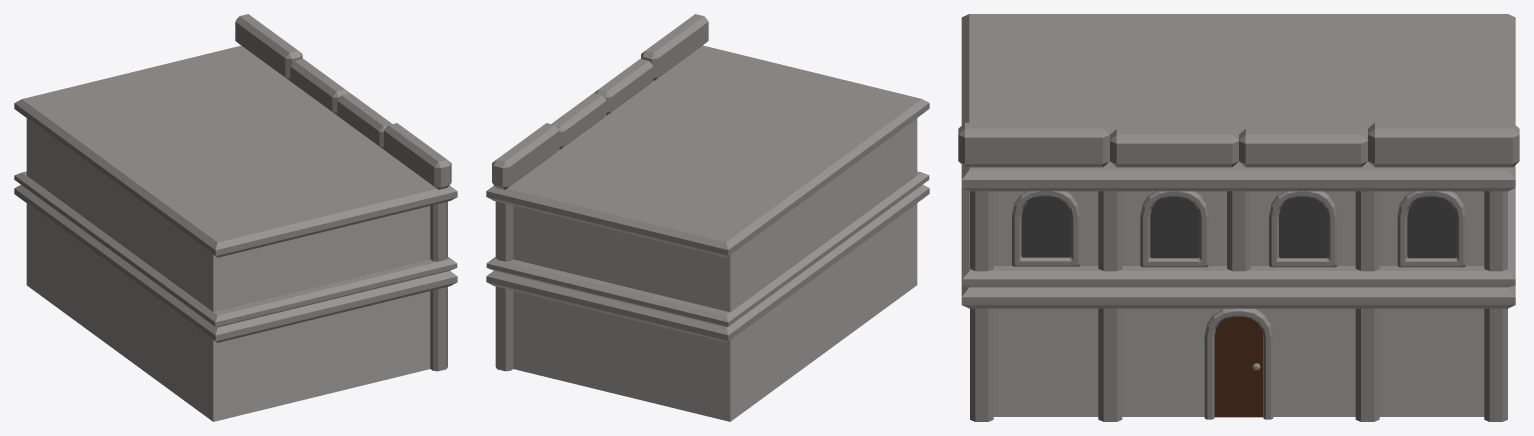
File: Edi_Chico.fbx
The picture shows the model from 3 angles, left to right: view 1: azimuth 30°, elevation 25°; view 2: azimuth 150°, elevation 25°; view 3: azimuth 270°, elevation 25°; orthographic projection. The views are drawn at different scales.
Visible parts, largest first — view 1: Cube.051, Cube.058, Cube.060; view 2: Cube.051, Cube.058, Cube.060; view 3: Cube.051, Cube.058, Cube.060, Cube.066, Cube.059.
Part boxes in pixels (box(x1,y1,x2,y2)): Cube.051: box(14, 45, 457, 327); Cube.058: box(14, 185, 457, 421); Cube.060: box(235, 14, 451, 189); Cube.051: box(486, 45, 929, 327); Cube.058: box(486, 184, 929, 421); Cube.060: box(492, 14, 708, 189); Cube.051: box(961, 14, 1515, 287); Cube.058: box(961, 188, 1515, 421); Cube.060: box(958, 122, 1519, 167); Cube.066: box(1214, 316, 1262, 417); Cube.059: box(1204, 308, 1273, 419).
Size of the model in its own units: 3819 by 3183 by 5574.
